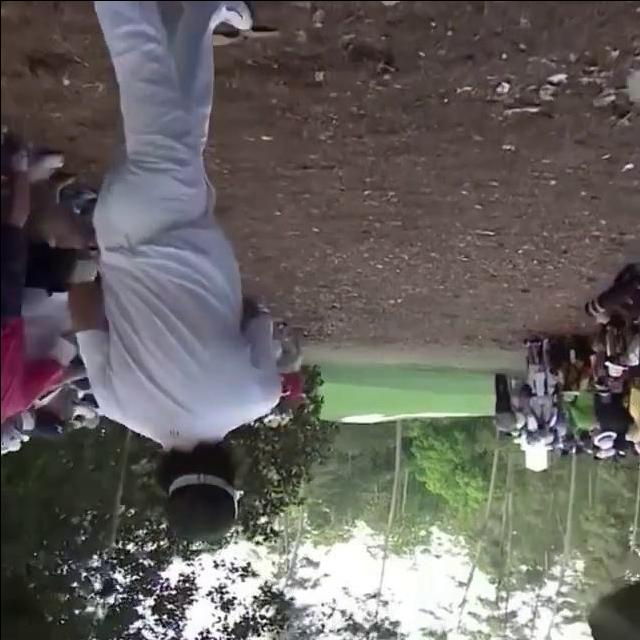golf club-handle: (94, 428, 133, 601)
